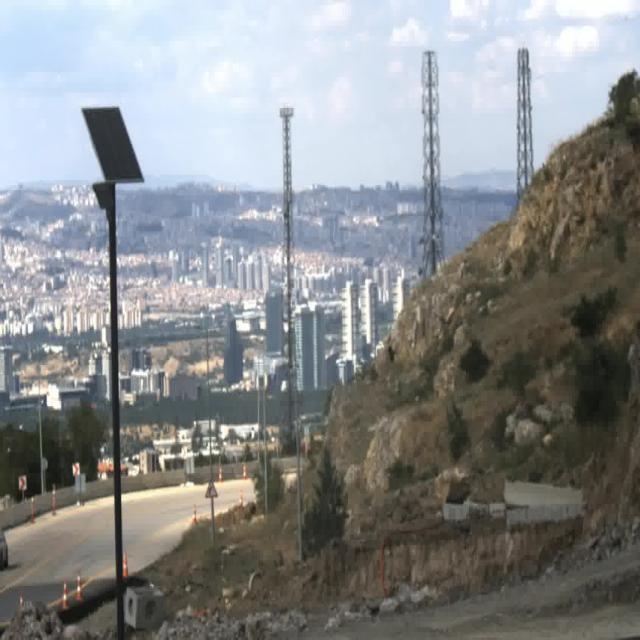Car: (0, 522, 12, 568)
